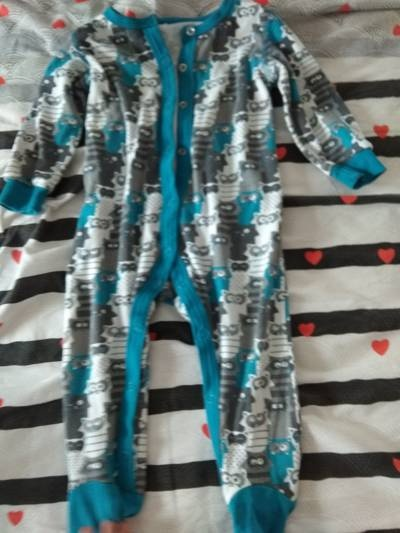Body: (2, 6, 381, 525)
